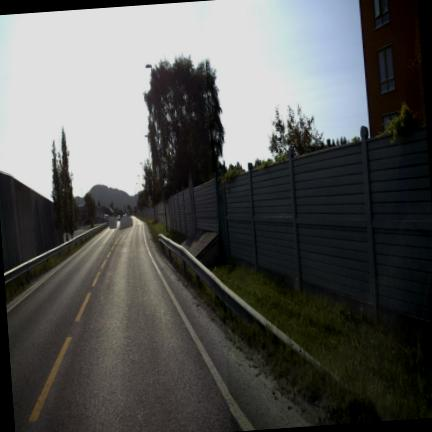Road: (6, 219, 306, 431)
